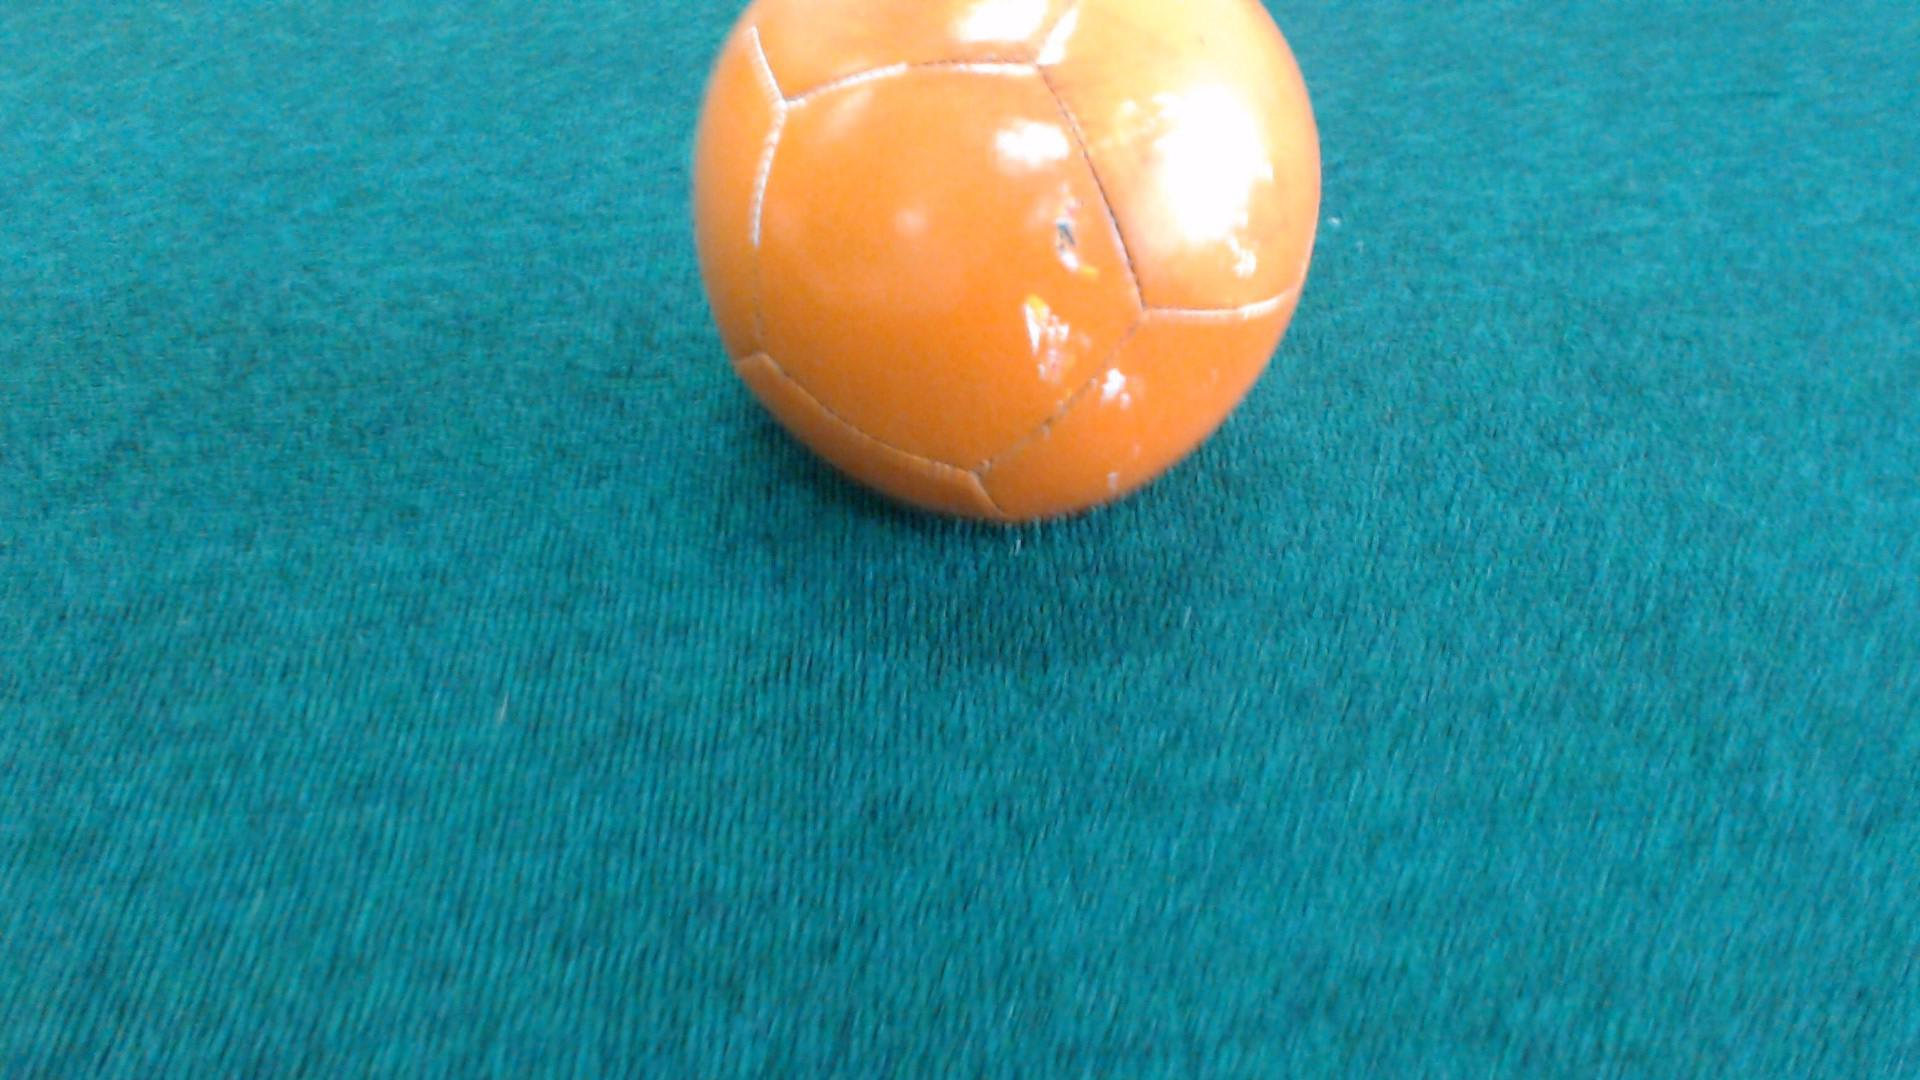bola: (641, 0, 1358, 568)
